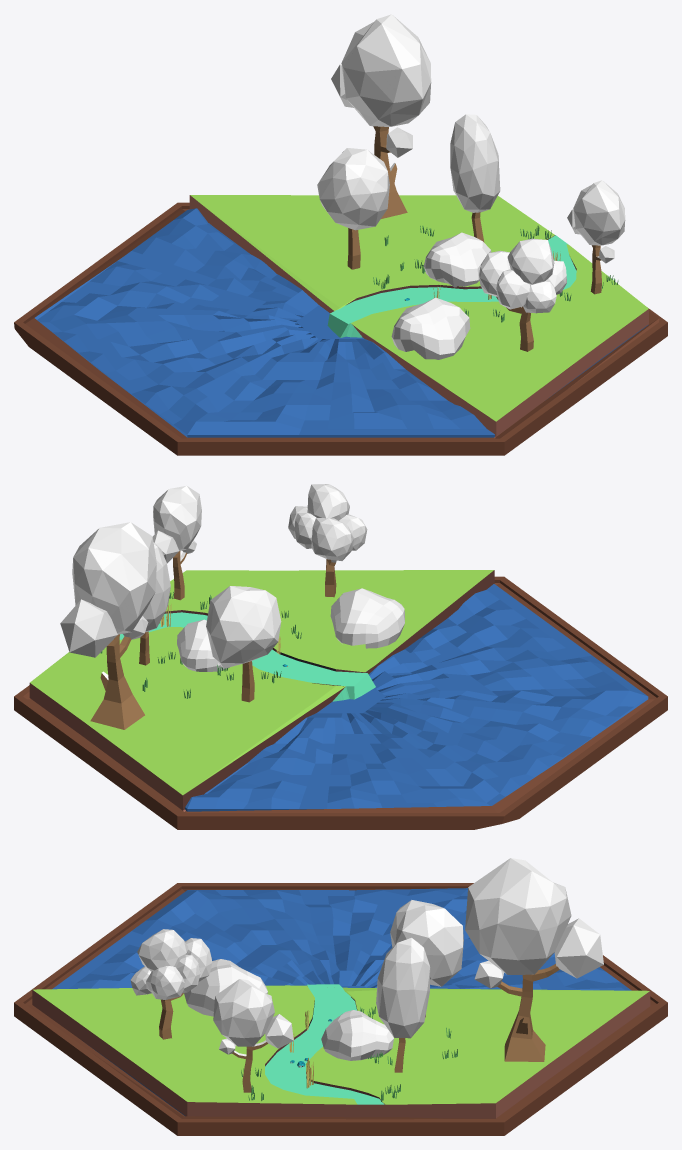
The model's file is forestandsea.glb.
The picture shows the model from 3 angles, top to bottom: view 1: azimuth 30°, elevation 25°; view 2: azimuth 150°, elevation 25°; view 3: azimuth 270°, elevation 25°; orthographic projection.
Visible parts, largest first — view 1: Circle, Circle.001, Tree 2.003, Tree 6.003, Tree 5.003, Tree 4.004, Cube.014, Tree 2.001, Cube.011; view 2: Circle, Circle.001, Tree 2.003, Tree 5.003, Tree 6.003, Cube.014, Tree 2.001, Cube.011, Tree 4.004; view 3: Circle.001, Circle, Tree 2.003, Tree 6.003, Tree 4.004, Tree 2.001, Tree 5.003, Cube.011, Cube.014.
Part boxes in pixels (x1,y1,x2,y2): Circle: (14, 202, 667, 455); Circle.001: (189, 195, 648, 438); Tree 2.003: (331, 14, 431, 218); Tree 6.003: (479, 238, 566, 351); Tree 5.003: (317, 148, 389, 269); Tree 4.004: (450, 114, 500, 242); Cube.014: (391, 297, 470, 359); Tree 2.001: (567, 180, 625, 294); Cube.011: (423, 232, 491, 287); Circle: (14, 576, 667, 829); Circle.001: (29, 570, 494, 811); Tree 2.003: (60, 522, 156, 729); Tree 5.003: (206, 586, 281, 702); Tree 6.003: (288, 484, 367, 597); Cube.014: (330, 588, 404, 648); Tree 2.001: (152, 485, 201, 600); Cube.011: (177, 619, 229, 671); Tree 4.004: (139, 542, 170, 665); Circle.001: (32, 984, 650, 1118); Circle: (14, 883, 667, 1135); Tree 2.003: (465, 858, 603, 1061); Tree 6.003: (130, 929, 212, 1039); Tree 4.004: (376, 937, 430, 1072); Tree 2.001: (213, 979, 293, 1092); Tree 5.003: (390, 900, 463, 1017); Cube.011: (321, 1010, 393, 1060); Cube.014: (184, 959, 267, 1016).
Size of the model in its own units: 30.17 by 12.9 by 34.84.
Materials: 15 (1 with a texture image).
